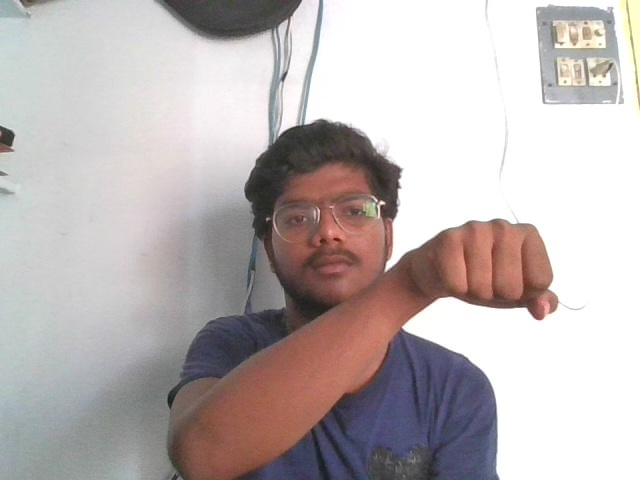Yes: (411, 199, 560, 320)
